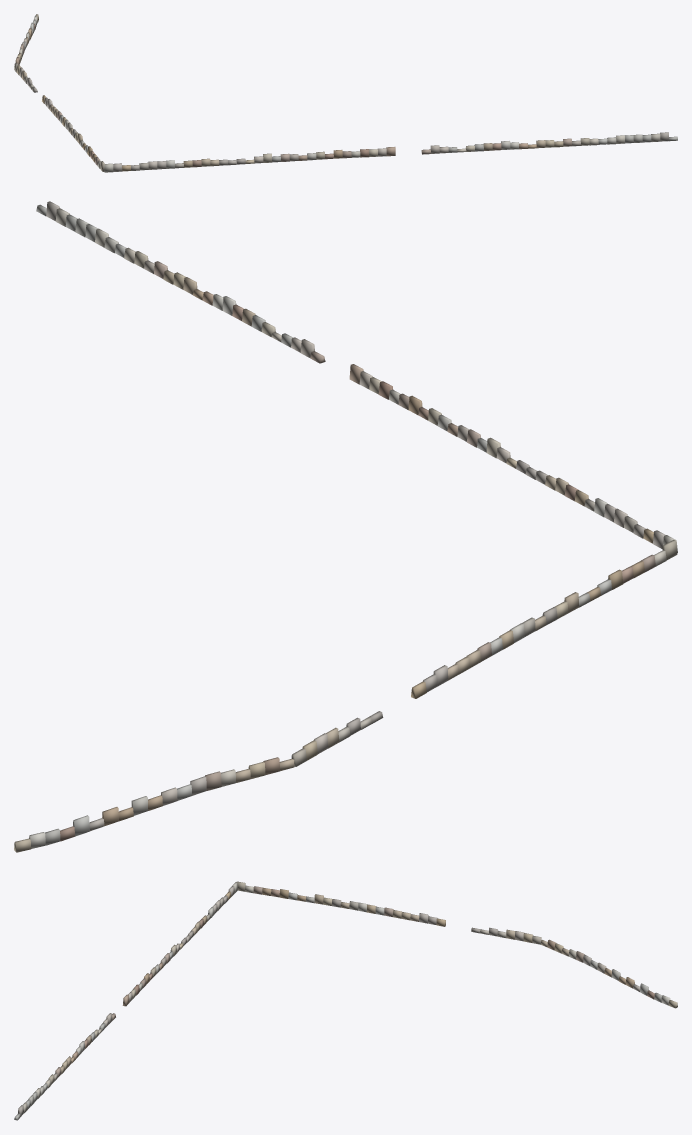
The model's file is farm_-26_-30_collision.glb.
3 renders of one model, top to bottom at view 1: azimuth 30°, elevation 25°; view 2: azimuth 150°, elevation 25°; view 3: azimuth 270°, elevation 25°, orthographic. The views are drawn at different scales.
Visible parts, largest first — view 1: geometry_0; view 2: geometry_0; view 3: geometry_0.
Part boxes in pixels (x1=…): geometry_0: x1=14, y1=14, x2=677, y2=172; geometry_0: x1=14, y1=201, x2=677, y2=852; geometry_0: x1=14, y1=881, x2=677, y2=1120.
Bounding box in the file's own units: 96.11 × 10.15 × 117.
